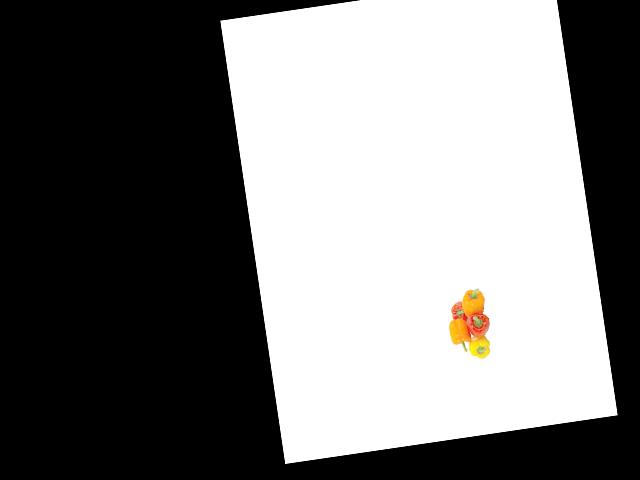bell_pepper: (457, 281, 489, 319)
